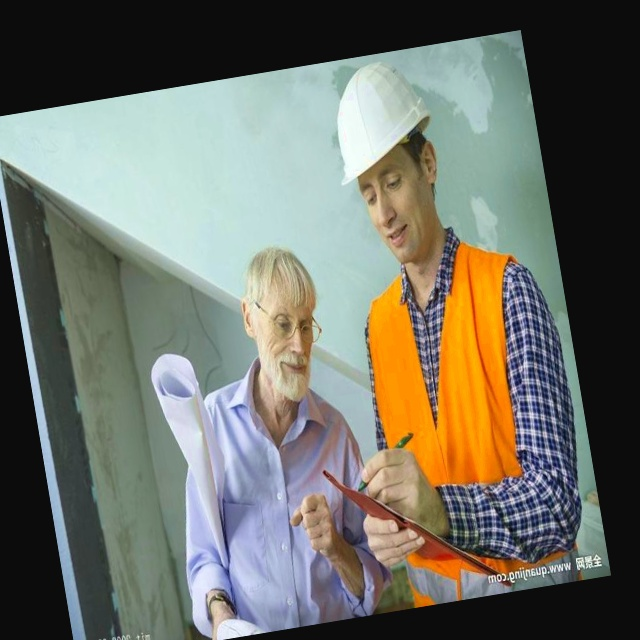Con_Chaleco: (350, 240, 573, 606)
Sin_Casco_Mascarrilla: (225, 243, 333, 407)
